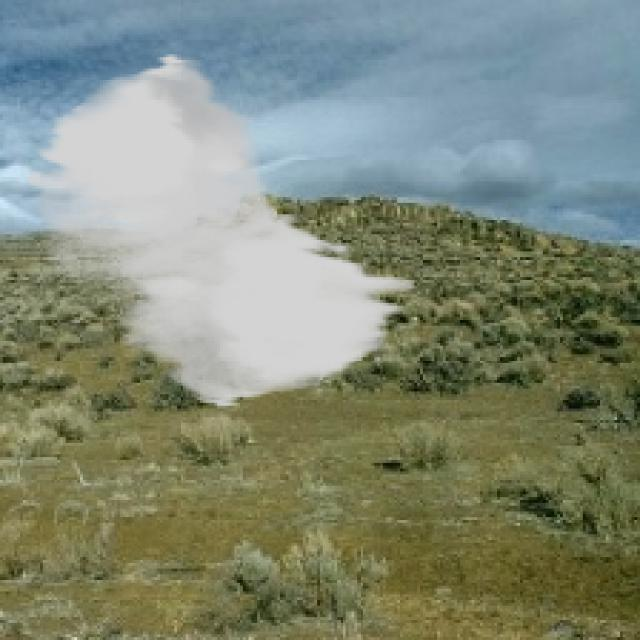Smoke: (26, 51, 414, 408)
